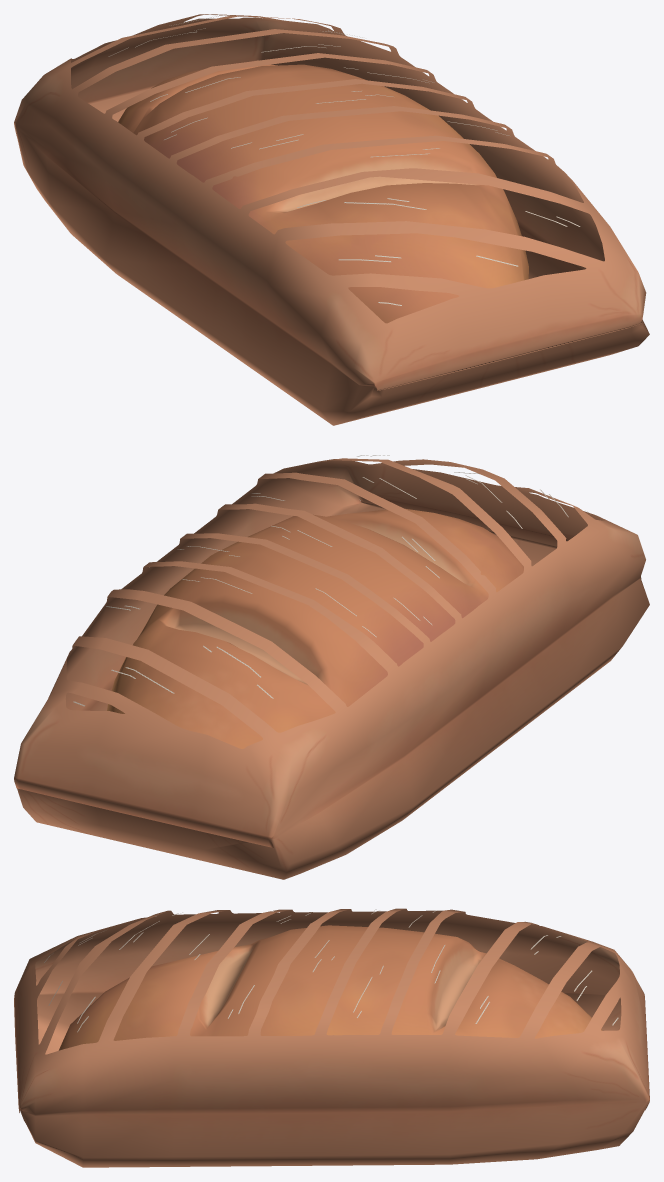
The model's file is bread_pocket_1.fbx.
The picture shows the model from 3 angles, top to bottom: view 1: azimuth 30°, elevation 25°; view 2: azimuth 150°, elevation 25°; view 3: azimuth 270°, elevation 25°; orthographic projection. The views are drawn at different scales.
Parts seen in each view (by area): view 1: pie_in_packet_2.001; view 2: pie_in_packet_2.001; view 3: pie_in_packet_2.001.
Boxes of the visible parts, x1,y1,x2,y2 form: pie_in_packet_2.001: [14, 14, 649, 425]; pie_in_packet_2.001: [14, 455, 649, 879]; pie_in_packet_2.001: [14, 908, 649, 1167].
Size of the model in its own units: 16.87 by 9.53 by 33.86.
